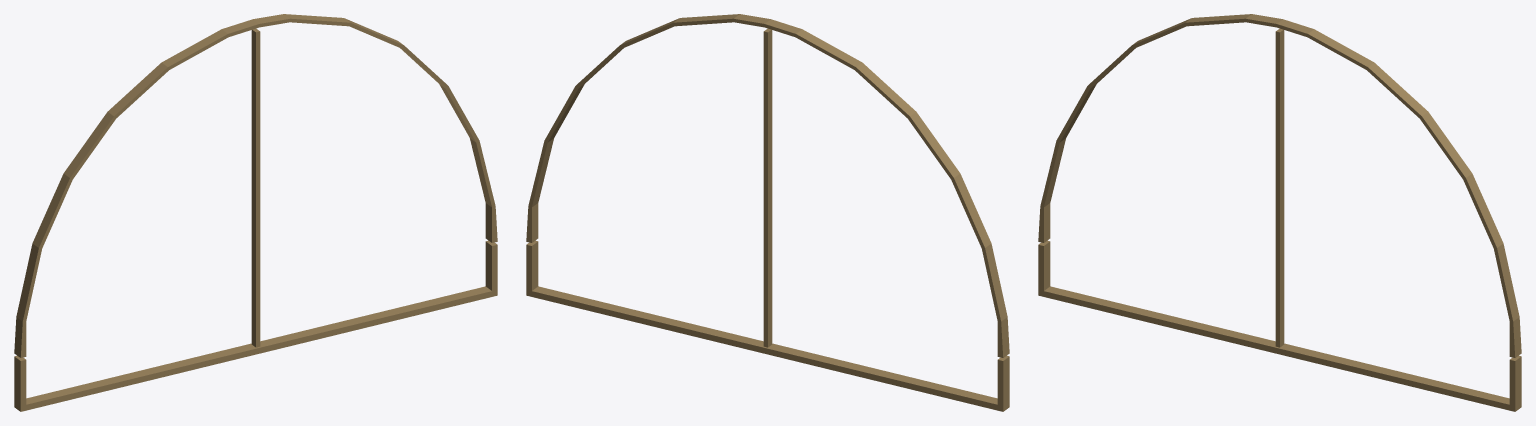
File: marine-copper-grille.lod2.glb
The picture shows the model from 3 angles, left to right: view 1: azimuth 30°, elevation 25°; view 2: azimuth 150°, elevation 25°; view 3: azimuth 330°, elevation 25°; orthographic projection.
Parts seen in each view (by area): view 1: marine-copper-grille; view 2: marine-copper-grille; view 3: marine-copper-grille.
Part boxes in pixels (x1,y1,x2,y2): marine-copper-grille: (14,14,497,411); marine-copper-grille: (526,14,1009,411); marine-copper-grille: (1038,14,1521,411).
Bounding box in the file's own units: 5.1 × 3.37 × 0.12.
